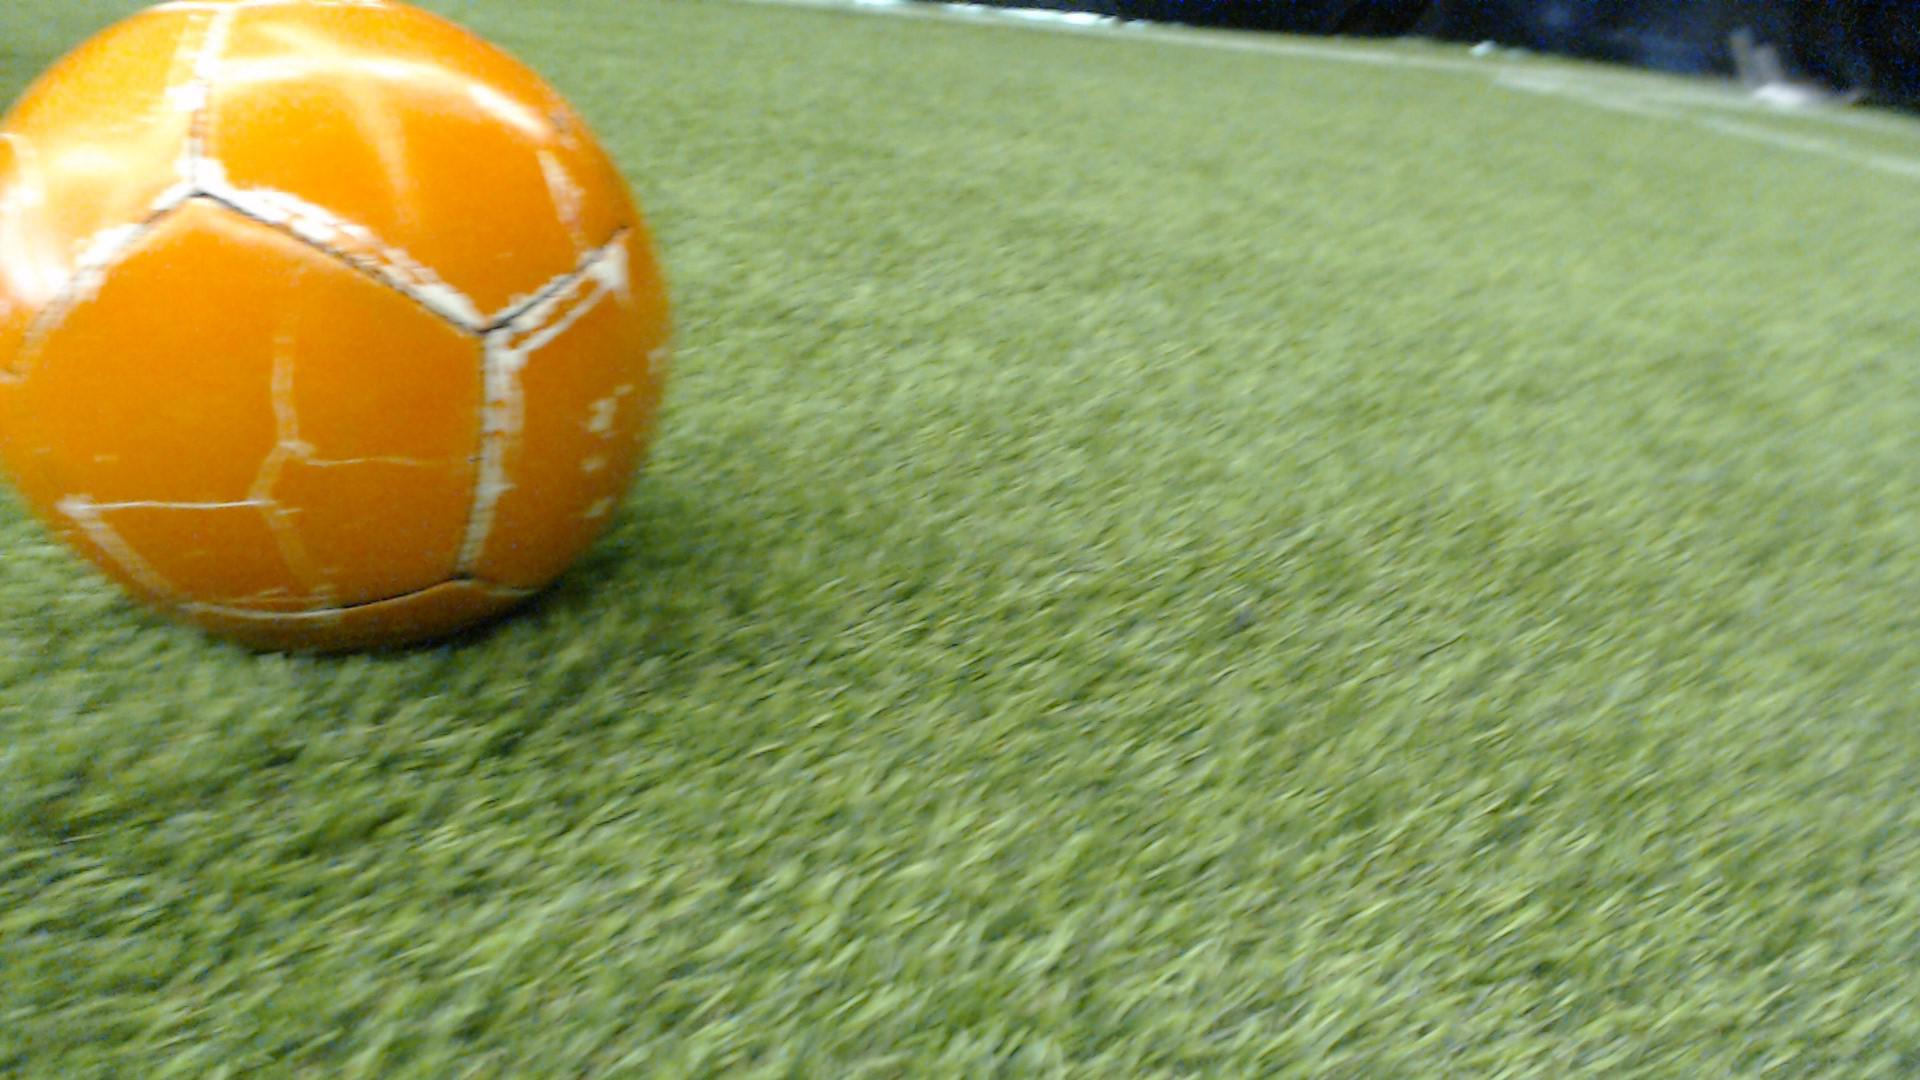bola: (0, 3, 721, 691)
